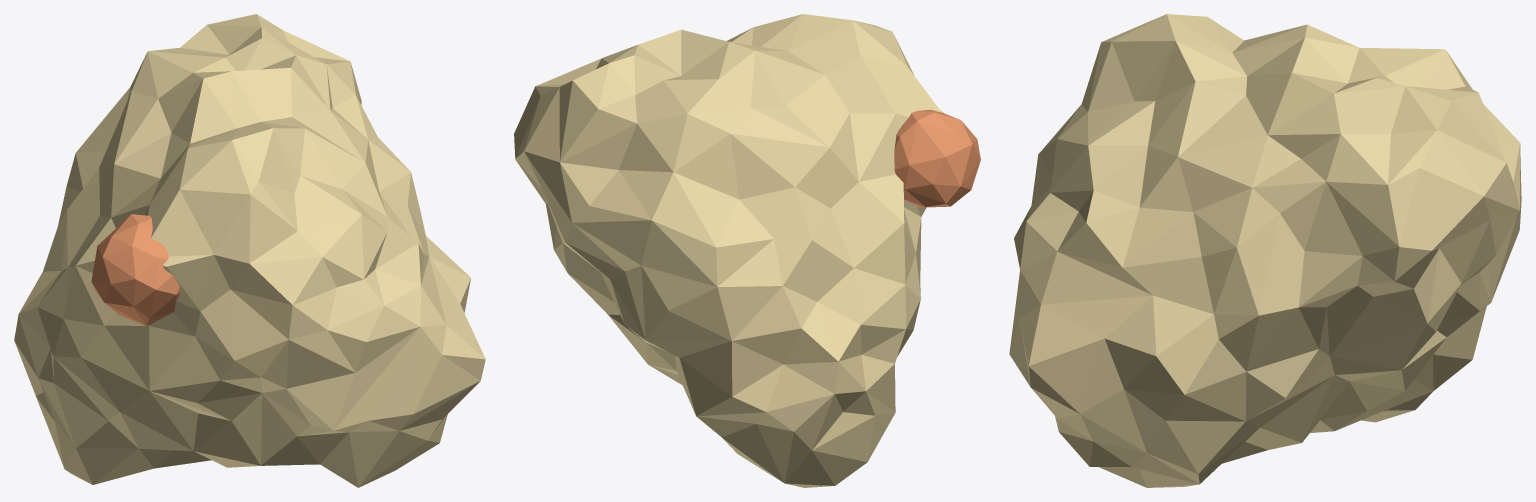
File: StoneOre (28).fbx
The picture shows the model from 3 angles, left to right: view 1: azimuth 30°, elevation 25°; view 2: azimuth 150°, elevation 25°; view 3: azimuth 270°, elevation 25°; orthographic projection. The views are drawn at different scales.
Parts seen in each view (by area): view 1: Asteroid315; view 2: Asteroid315; view 3: Asteroid315.
Part boxes in pixels (left/top/right/bottom): Asteroid315: left=14, top=14, right=485, bottom=487; Asteroid315: left=514, top=14, right=980, bottom=487; Asteroid315: left=1009, top=14, right=1521, bottom=487.
Bounding box in the file's own units: 410 × 426 × 446.
